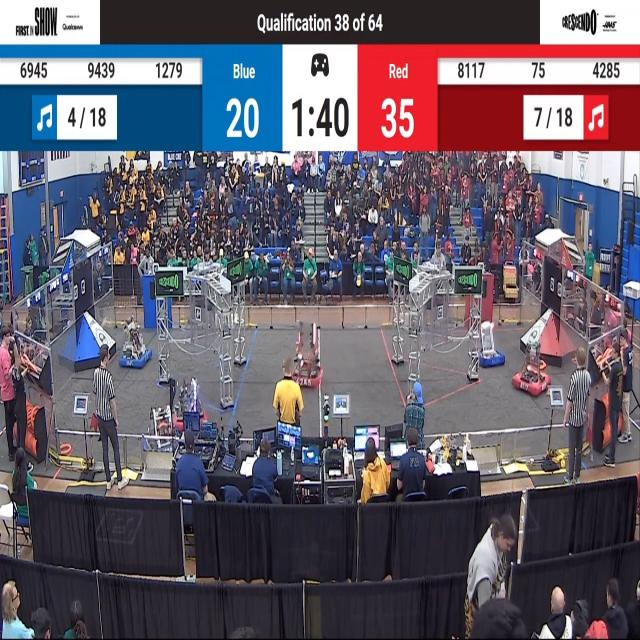Robot: (283, 320, 323, 395), (170, 368, 210, 438), (512, 339, 552, 400), (142, 400, 176, 456), (120, 316, 152, 373), (476, 318, 505, 374)
